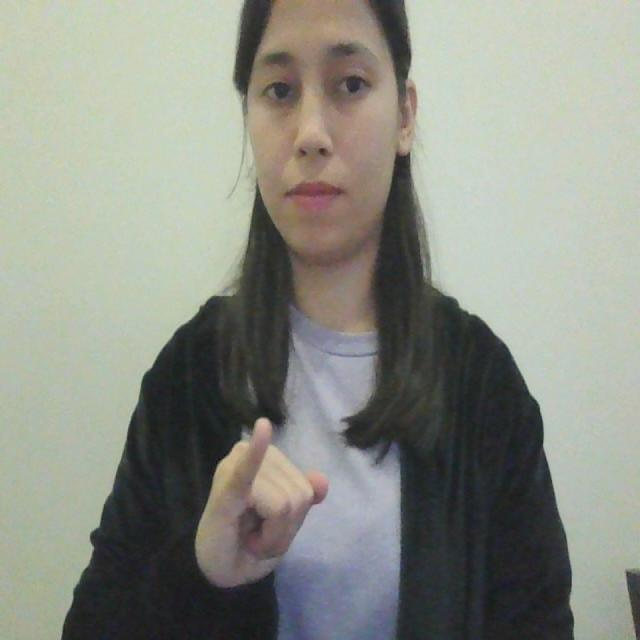kotu: (193, 407, 335, 597)
